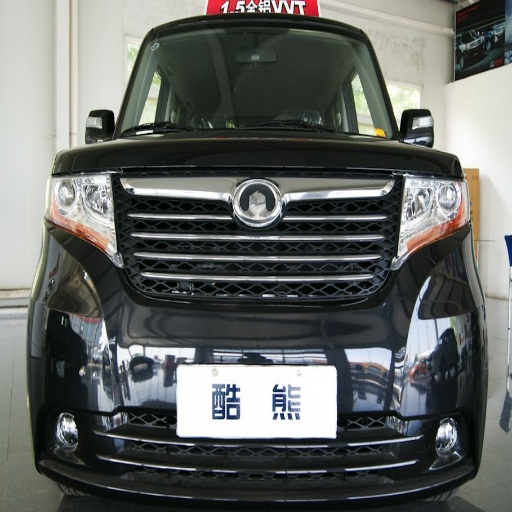front_bumper: (36, 171, 471, 505)
front_right_light: (49, 154, 116, 254)
